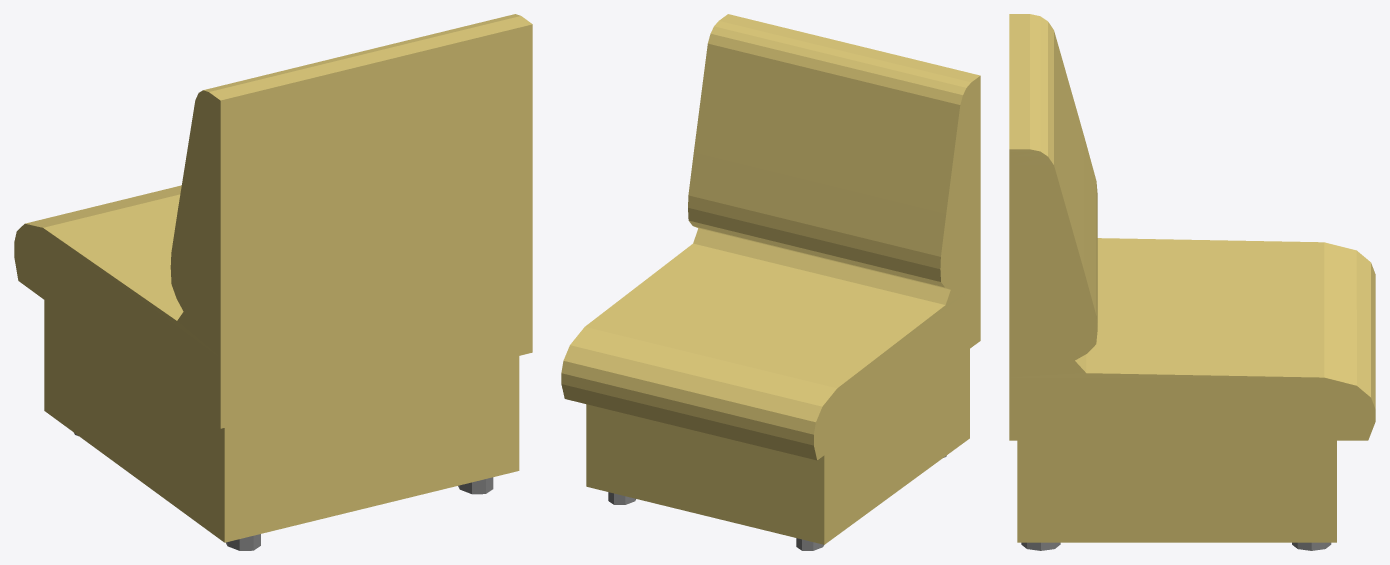
The model's file is soft_chair_visual_yellow.dae.
The picture shows the model from 3 angles, left to right: view 1: azimuth 30°, elevation 25°; view 2: azimuth 150°, elevation 25°; view 3: azimuth 270°, elevation 25°; orthographic projection. The views are drawn at different scales.
Parts seen in each view (by area): view 1: Circle; view 2: Circle; view 3: Circle.
Part boxes in pixels (x1,y1,x2,y2): Circle: (14,14,532,550); Circle: (561,14,980,550); Circle: (1009,14,1375,550).
Bounding box in the file's own units: 68.14 × 77.97 × 96.93.
